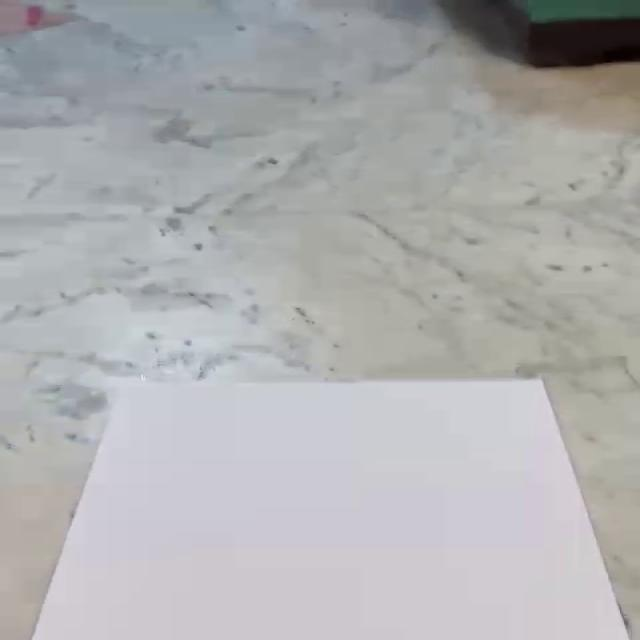road: (29, 378, 631, 640)
